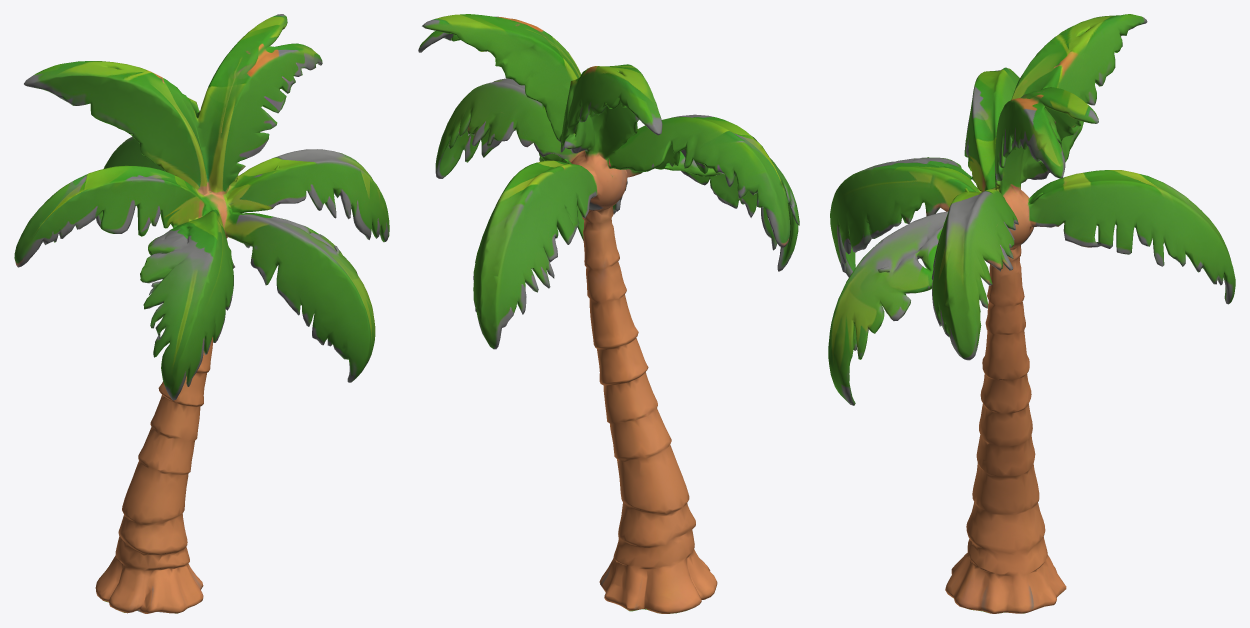
Rendered from palm-tree-3d.glb.
3 views of the same model, side by side, from view 1: azimuth 30°, elevation 25°; view 2: azimuth 150°, elevation 25°; view 3: azimuth 270°, elevation 25° (orthographic). The views are drawn at different scales.
Parts seen in each view (by area): view 1: tripo_node_d3db7173-50ba-44b3-aae3-c06a7d069b07; view 2: tripo_node_d3db7173-50ba-44b3-aae3-c06a7d069b07; view 3: tripo_node_d3db7173-50ba-44b3-aae3-c06a7d069b07.
Part boxes in pixels (<box>): tripo_node_d3db7173-50ba-44b3-aae3-c06a7d069b07: <box>14,14,389,613</box>; tripo_node_d3db7173-50ba-44b3-aae3-c06a7d069b07: <box>418,14,799,613</box>; tripo_node_d3db7173-50ba-44b3-aae3-c06a7d069b07: <box>828,14,1235,613</box>.
Bounding box in the file's own units: 0.7041 × 1 × 0.6466.
1 material, 1 textured.
